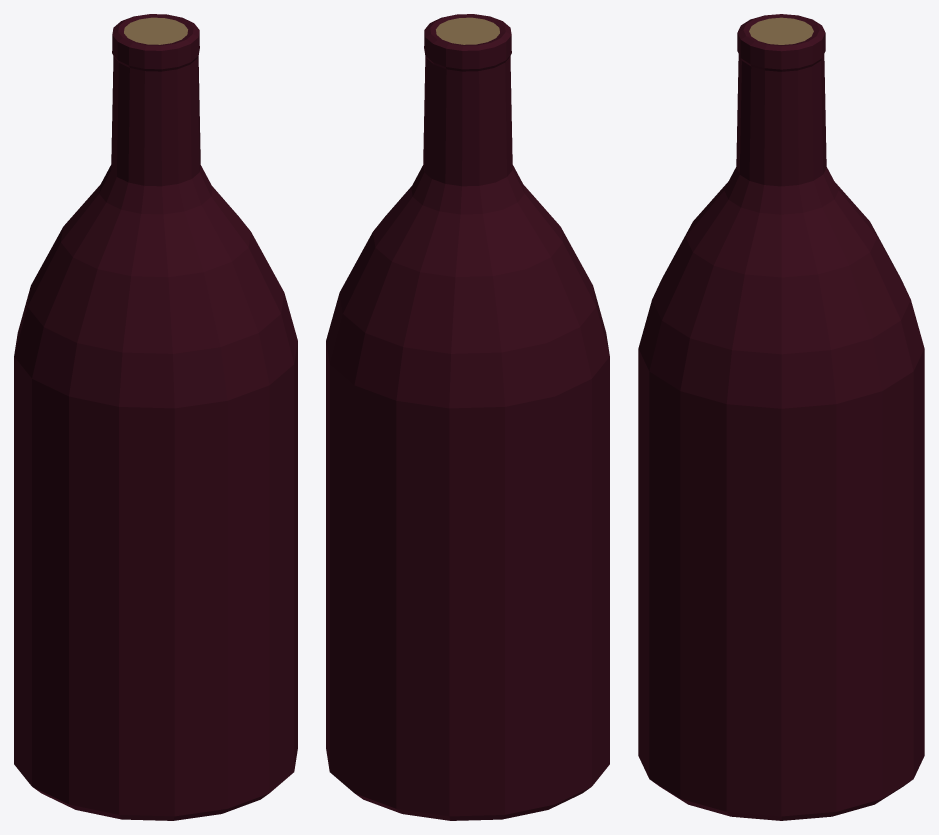
File: Wine_003.fbx
The picture shows the model from 3 angles, left to right: view 1: azimuth 30°, elevation 25°; view 2: azimuth 150°, elevation 25°; view 3: azimuth 270°, elevation 25°; orthographic projection.
Visible parts, largest first — view 1: wine_003; view 2: wine_003; view 3: wine_003.
Boxes of the visible parts, bbox=[...] form: wine_003: bbox=[14, 14, 297, 820]; wine_003: bbox=[326, 14, 609, 820]; wine_003: bbox=[638, 14, 924, 820].
Size of the model in its own units: 12 by 34.02 by 12.
